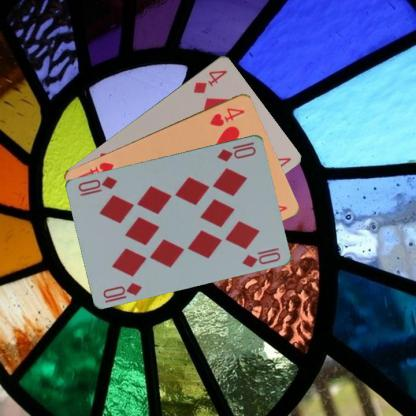10d: (100, 280, 144, 304), (214, 139, 257, 163)
4d: (191, 67, 228, 95)
4h: (207, 105, 246, 127)
